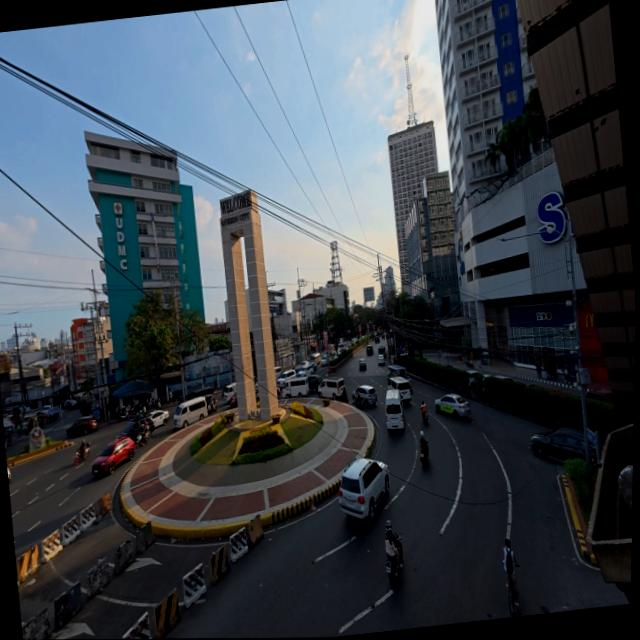car: (333, 452, 394, 523), (90, 435, 141, 477), (432, 391, 471, 422), (65, 414, 100, 437), (351, 381, 378, 408), (147, 406, 172, 426)
